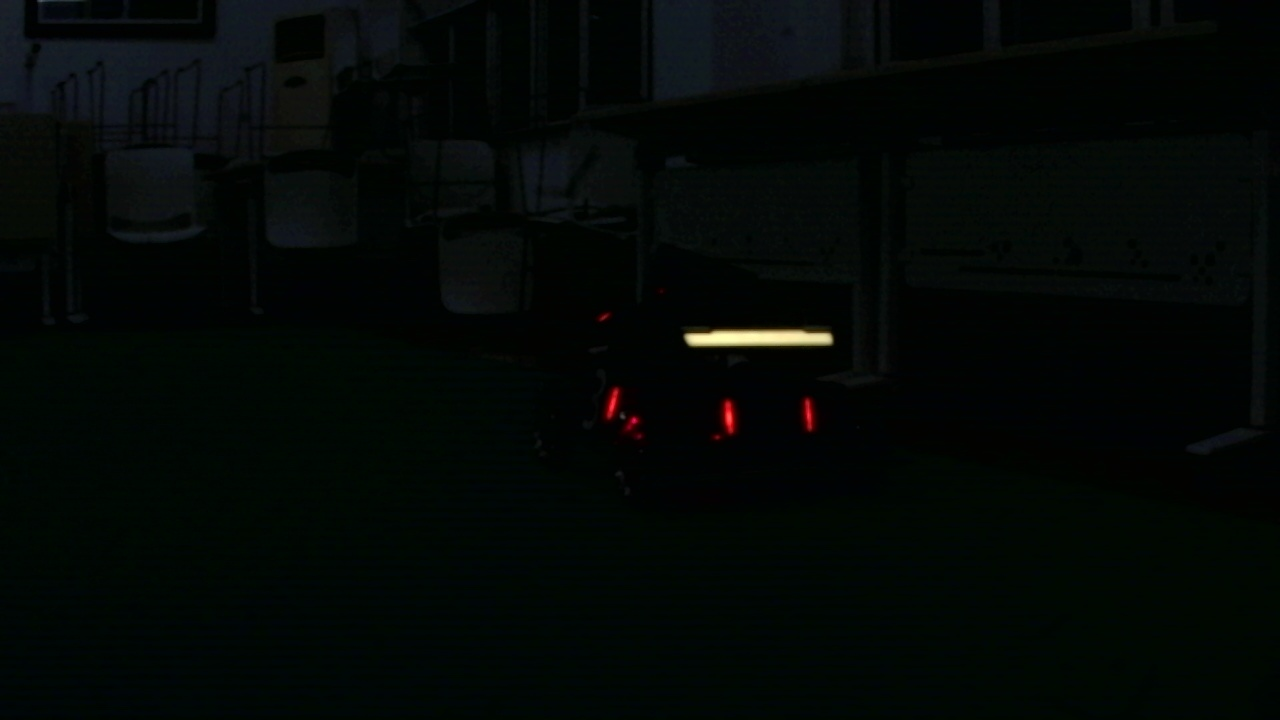lamp: (721, 395, 736, 434), (604, 386, 620, 421), (799, 402, 817, 431)
pair1: (723, 392, 814, 434)
